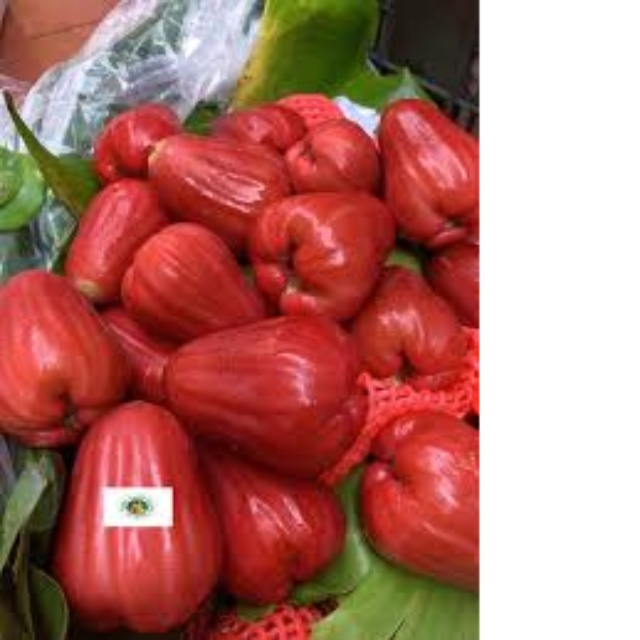xoai: (159, 321, 375, 466), (256, 166, 397, 329), (1, 266, 126, 444), (133, 119, 293, 239), (122, 217, 266, 347), (373, 91, 478, 249)
